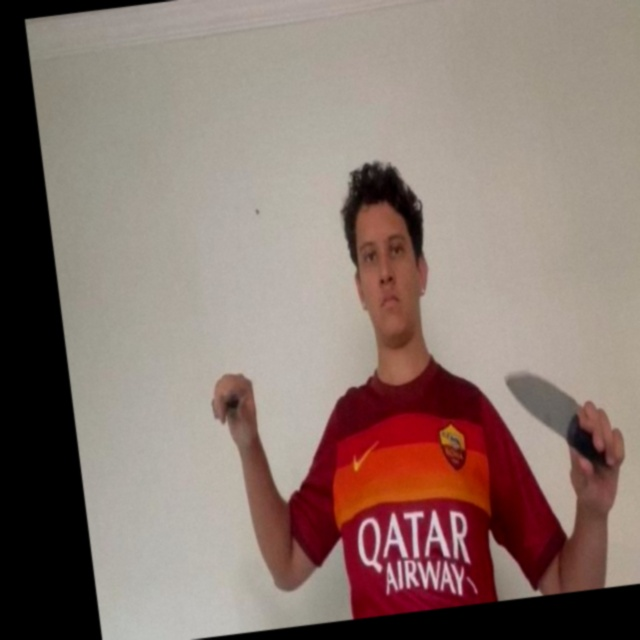Sharp-Object: (506, 365, 582, 435)
